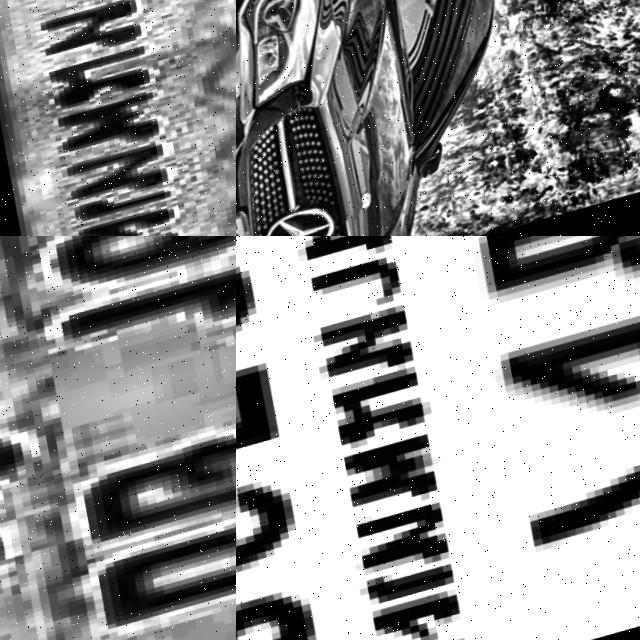license-plate: (236, 236, 640, 640), (0, 236, 236, 640), (0, 0, 236, 236)
